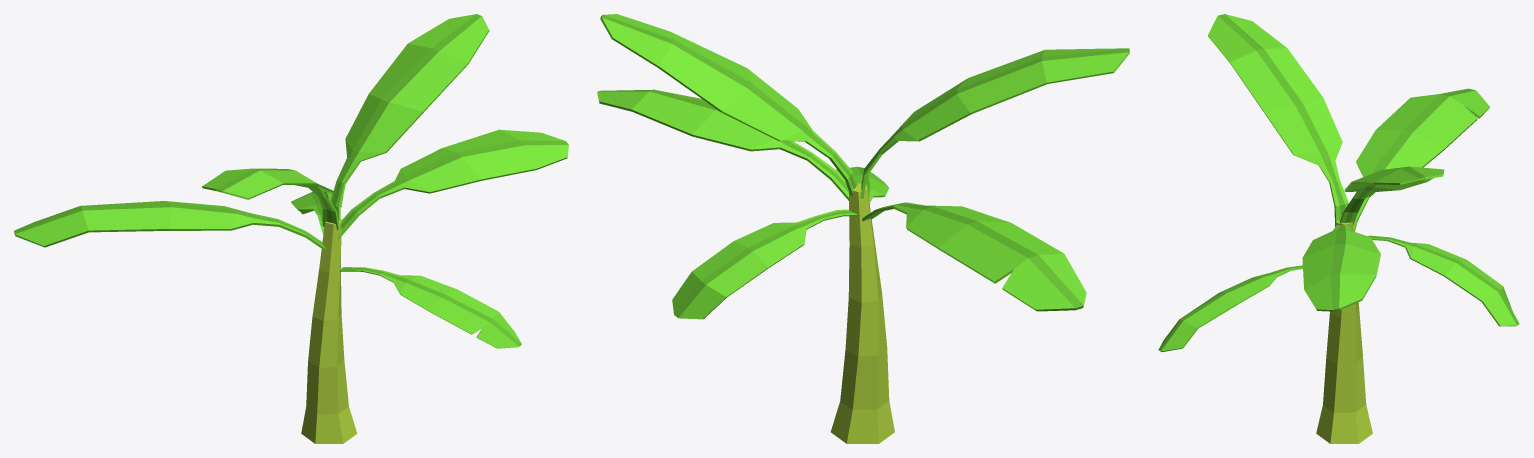
The model's file is sapling.fbx.
3 views of the same model, side by side, from view 1: azimuth 30°, elevation 25°; view 2: azimuth 150°, elevation 25°; view 3: azimuth 270°, elevation 25° (orthographic). The views are drawn at different scales.
Visible parts, largest first — view 1: Banana Leafs.007, Banana Leafs.005, Banana Trunk.001, Banana Leafs.006, Banana Leafs, Banana Leafs.003, Banana Leafs.008; view 2: Banana Leafs.006, Banana Leafs.007, Banana Trunk.001, Banana Leafs.003, Banana Leafs.008, Banana Leafs.005, Banana Leafs; view 3: Banana Leafs.003, Banana Leafs.006, Banana Trunk.001, Banana Leafs.005, Banana Leafs.008, Banana Leafs, Banana Leafs.007.
Part boxes in pixels (box(x1,y1,x2,y2)): Banana Leafs.007: box(330, 14, 489, 234); Banana Leafs.005: box(337, 129, 568, 239); Banana Trunk.001: box(301, 219, 357, 443); Banana Leafs.006: box(14, 201, 326, 251); Banana Leafs: box(339, 267, 521, 348); Banana Leafs.003: box(202, 168, 339, 230); Banana Leafs.008: box(291, 192, 343, 234); Banana Leafs.006: box(862, 202, 1086, 311); Banana Leafs.007: box(600, 14, 857, 195); Banana Trunk.001: box(830, 183, 894, 443); Banana Leafs.003: box(860, 48, 1129, 198); Banana Leafs.008: box(672, 209, 857, 319); Banana Leafs.005: box(597, 89, 848, 200); Banana Leafs: box(836, 166, 888, 204); Banana Leafs.003: box(1208, 14, 1348, 226); Banana Leafs.006: box(1353, 88, 1489, 231); Banana Trunk.001: box(1316, 220, 1372, 443); Banana Leafs.005: box(1302, 225, 1380, 311); Banana Leafs.008: box(1367, 235, 1519, 326); Banana Leafs: box(1158, 265, 1302, 351); Banana Leafs.007: box(1339, 166, 1444, 225).
Size of the model in its own units: 486 by 328 by 308.
